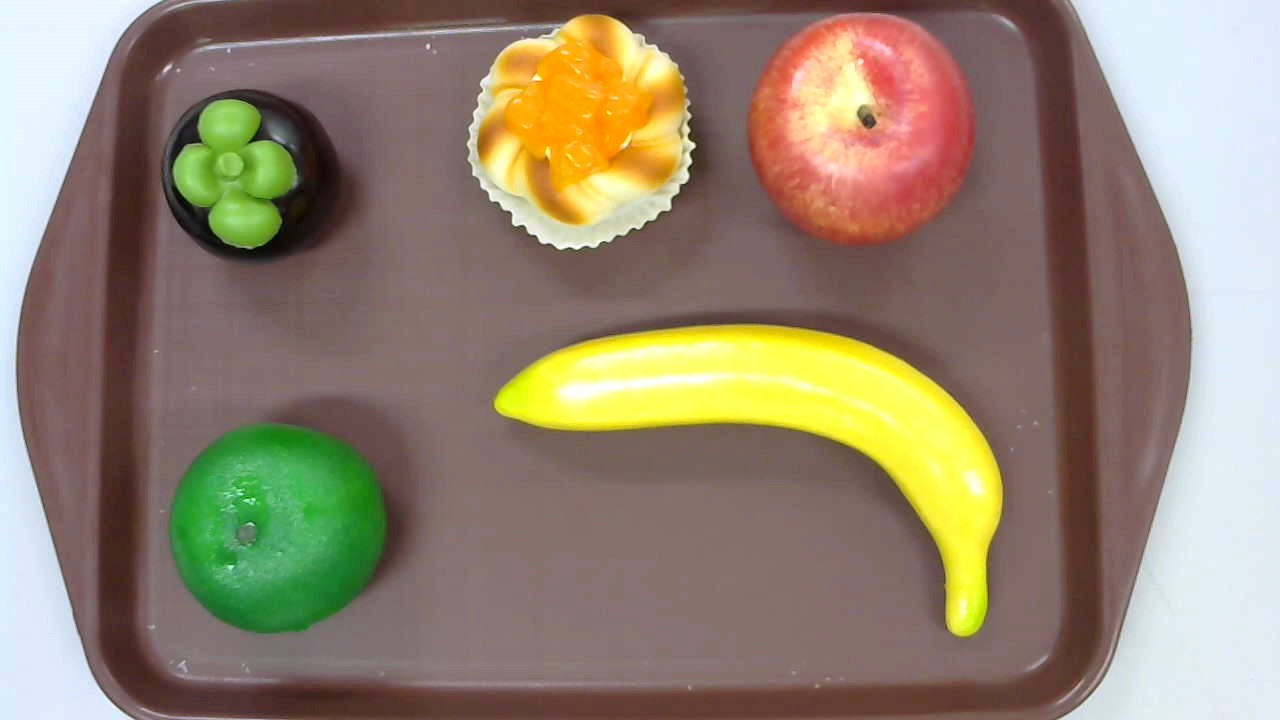banana: (493, 323, 1004, 637)
green orange: (167, 421, 385, 637)
mango tower: (466, 15, 697, 250)
mangosteen: (162, 89, 343, 265)
red apple: (749, 12, 978, 250)
